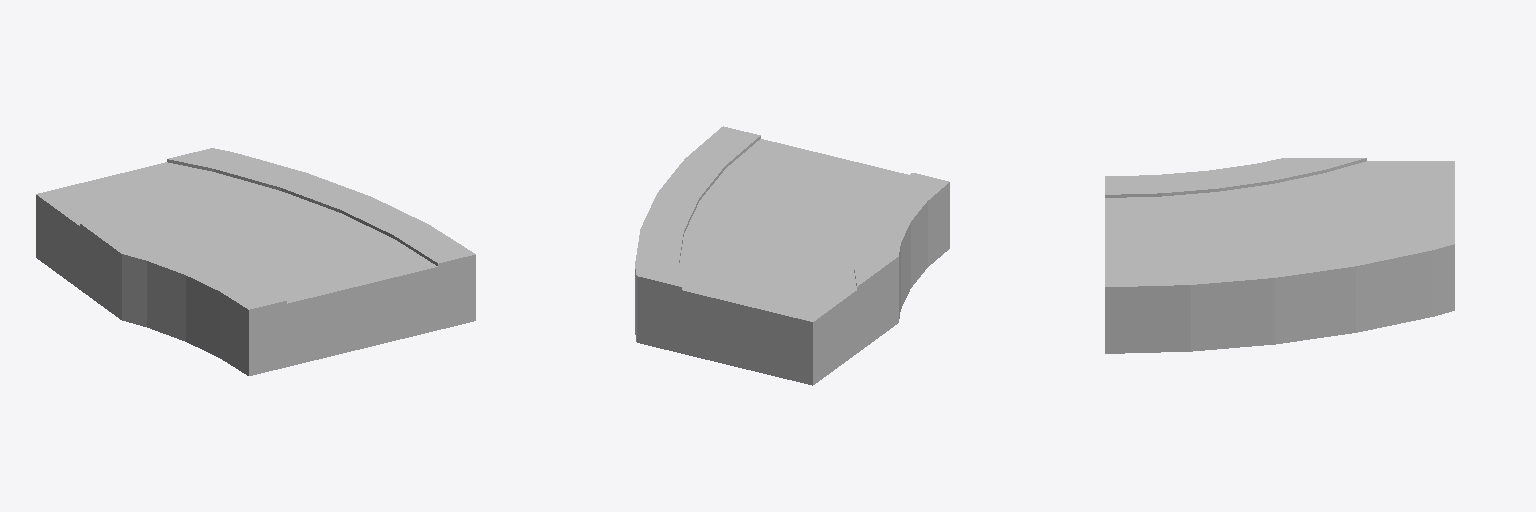
Rendered from tile215.obj.
3 views of the same model, side by side, from view 1: azimuth 30°, elevation 25°; view 2: azimuth 150°, elevation 25°; view 3: azimuth 270°, elevation 25° (orthographic).
Parts seen in each view (by area): view 1: tile215; view 2: tile215; view 3: tile215.
Part boxes in pixels (left/top/right/bottom): tile215: left=36, top=148, right=475, bottom=375; tile215: left=635, top=126, right=949, bottom=385; tile215: left=1105, top=158, right=1454, bottom=353.
Size of the model in its own units: 0.875 by 0.21 by 1.